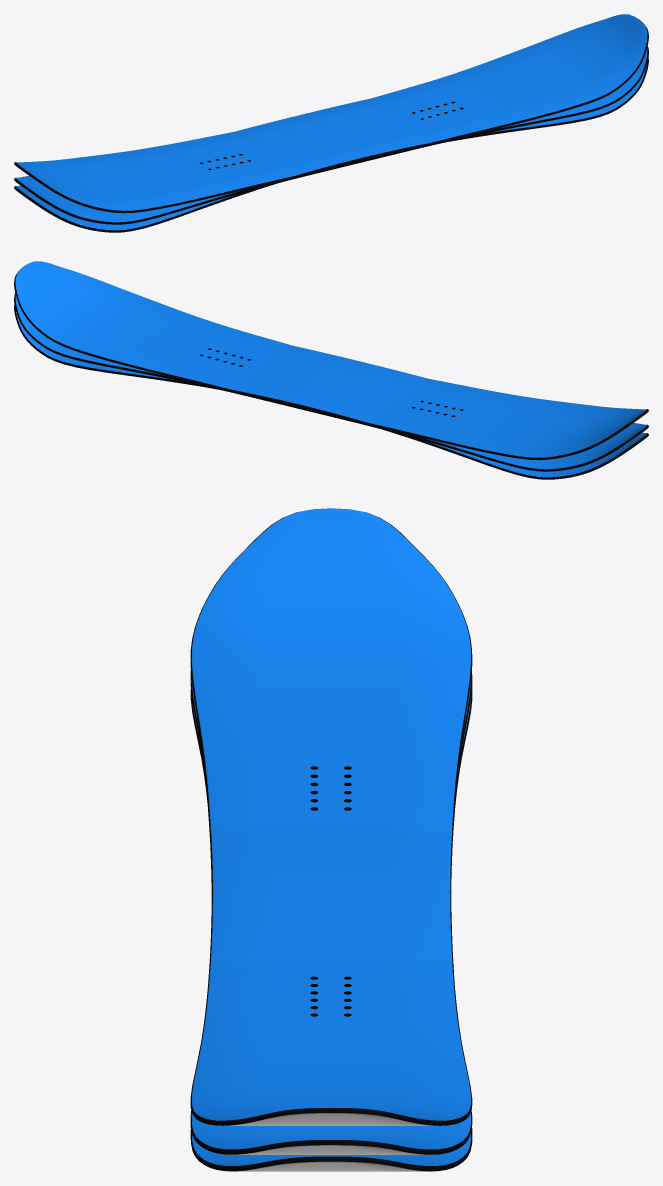
The model's file is snowboard.glb.
3 renders of one model, top to bottom at view 1: azimuth 30°, elevation 25°; view 2: azimuth 150°, elevation 25°; view 3: azimuth 270°, elevation 25°, orthographic. The views are drawn at different scales.
Parts seen in each view (by area): view 1: snowboard_rocker, snowboard_camber, snowboard_flat; view 2: snowboard_rocker, snowboard_camber, snowboard_flat; view 3: snowboard_rocker, snowboard_camber, snowboard_flat.
Boxes of the visible parts, bbox=[...] form: snowboard_rocker: bbox=[14, 14, 648, 213]; snowboard_camber: bbox=[14, 57, 648, 232]; snowboard_flat: bbox=[14, 46, 648, 224]; snowboard_rocker: bbox=[14, 261, 648, 460]; snowboard_camber: bbox=[14, 304, 648, 479]; snowboard_flat: bbox=[14, 293, 648, 471]; snowboard_rocker: bbox=[190, 508, 472, 1125]; snowboard_camber: bbox=[190, 686, 472, 1171]; snowboard_flat: bbox=[190, 670, 472, 1154].
Size of the model in its own units: 4.84 by 0.4101 by 0.956.
